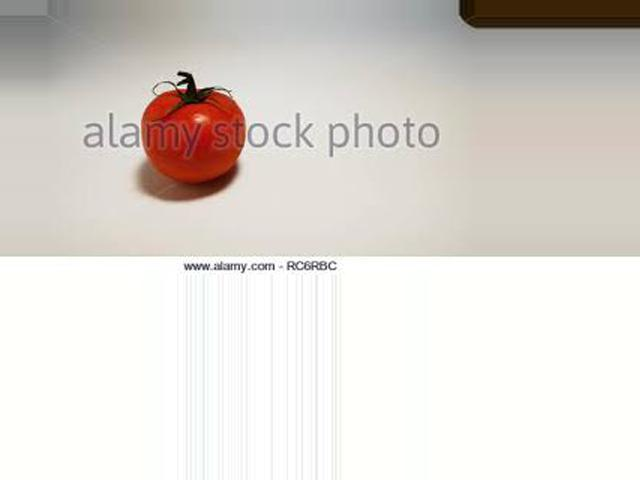tomato: (141, 87, 246, 182)
